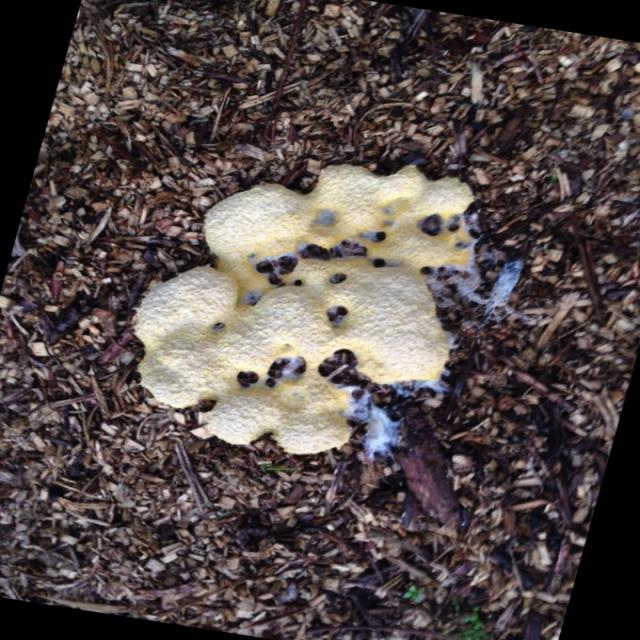Dog_vomit_slime_mold: (156, 101, 469, 474)
